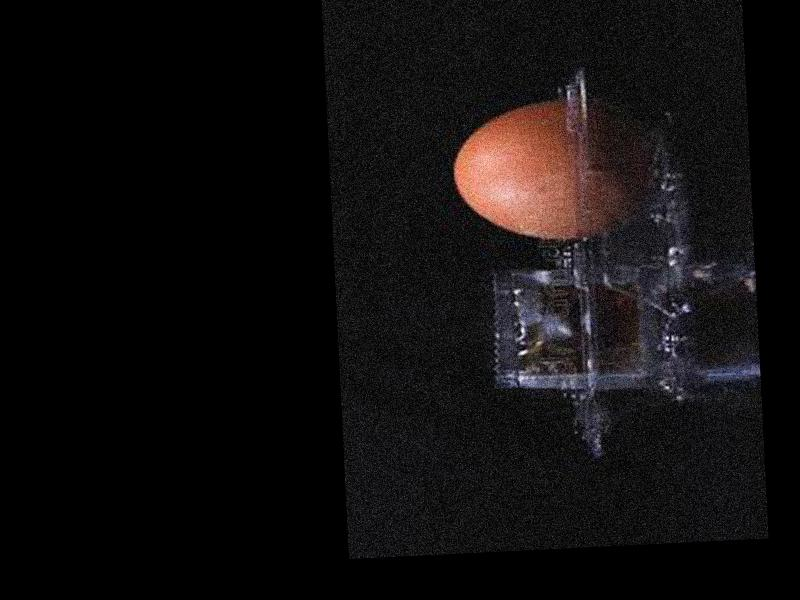Eggs: (450, 92, 664, 243)
